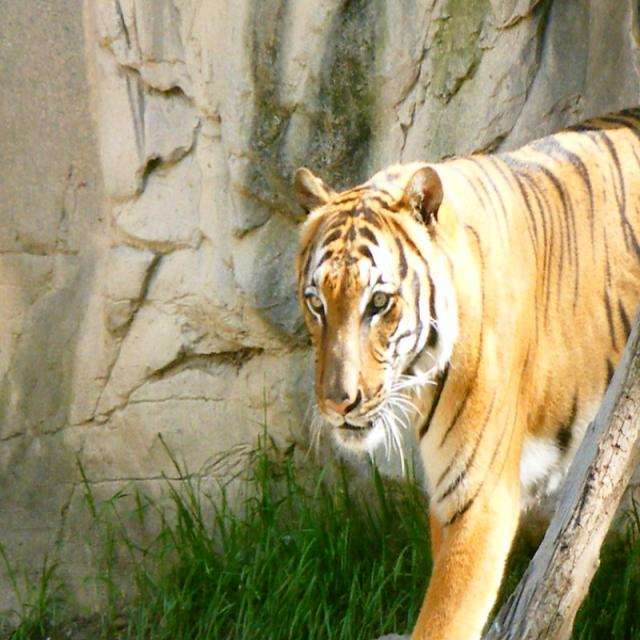Tiger: (287, 111, 627, 624)
